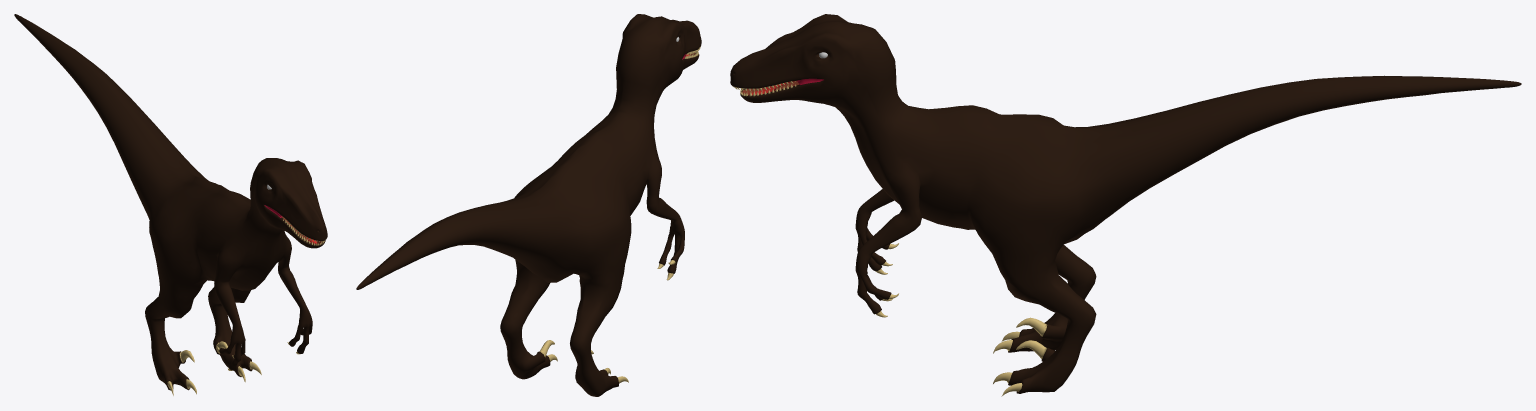
Rendered from Raptor.obj.
The picture shows the model from 3 angles, left to right: view 1: azimuth 30°, elevation 25°; view 2: azimuth 150°, elevation 25°; view 3: azimuth 270°, elevation 25°; orthographic projection. The views are drawn at different scales.
Visible parts, largest first — view 1: RAPTOR_Low_Plane; view 2: RAPTOR_Low_Plane; view 3: RAPTOR_Low_Plane.
Part boxes in pixels (x1,y1,x2,y2): RAPTOR_Low_Plane: (14, 14, 327, 395); RAPTOR_Low_Plane: (356, 14, 701, 396); RAPTOR_Low_Plane: (730, 14, 1521, 396).
Size of the model in its own units: 1.79 by 4.91 by 10.13.
